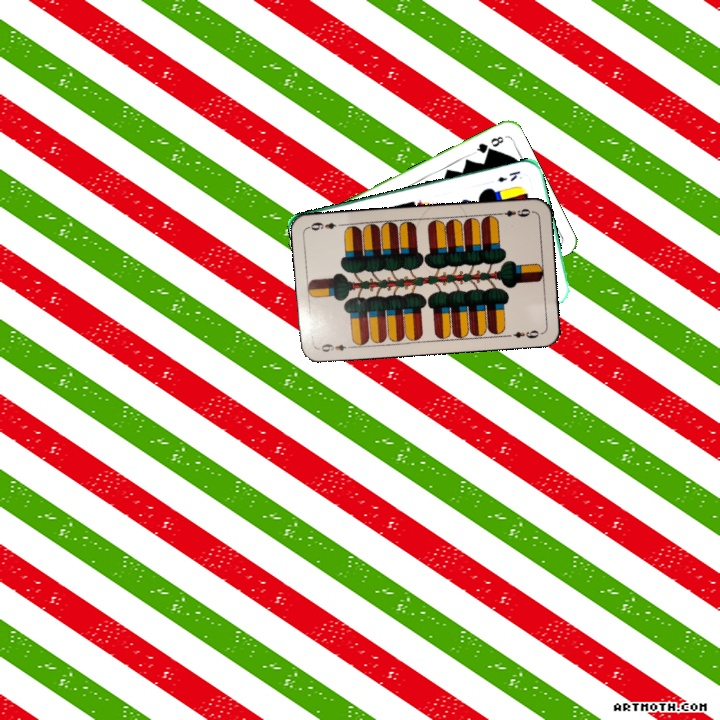E9: (314, 339, 355, 355), (494, 204, 535, 219)
EK: (493, 167, 522, 185)
G8: (470, 132, 507, 156)
